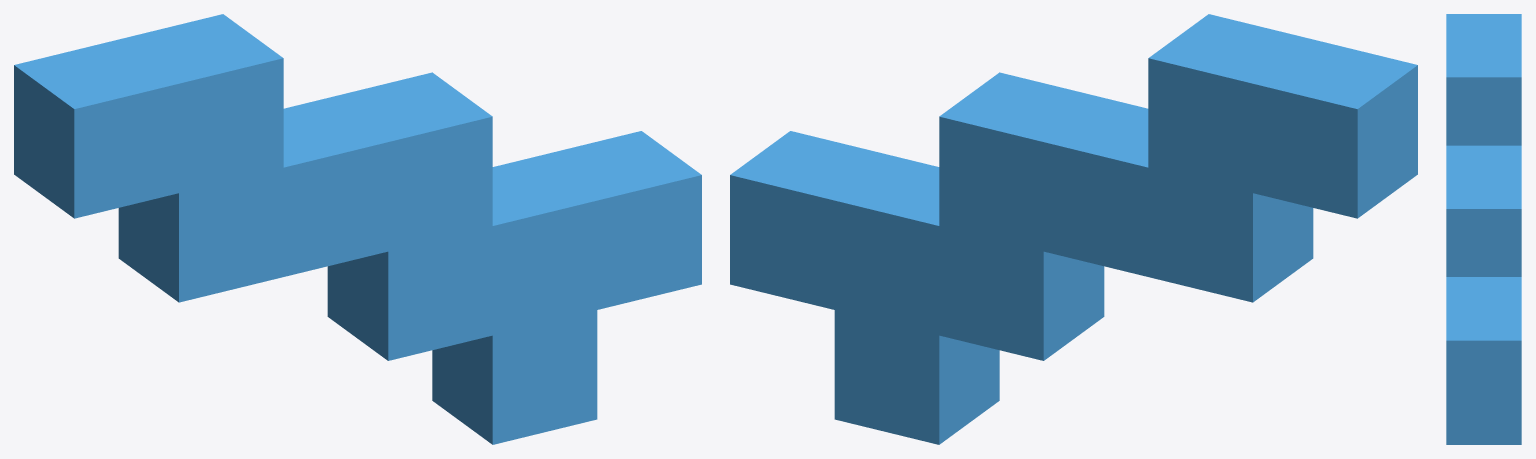
File: Lightning-Small-Blue.vox.obj
The picture shows the model from 3 angles, left to right: view 1: azimuth 30°, elevation 25°; view 2: azimuth 150°, elevation 25°; view 3: azimuth 270°, elevation 25°; orthographic projection. The views are drawn at different scales.
Size of the model in its own units: 0.6 by 0.4 by 0.1.
Materials: 1 (1 with a texture image).
